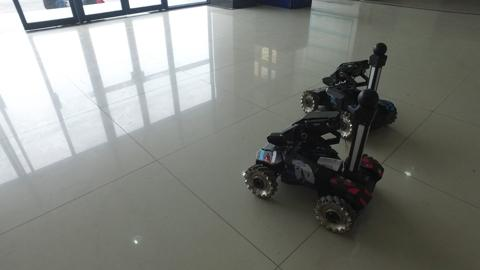chariot: (241, 90, 387, 239), (295, 39, 402, 146)
